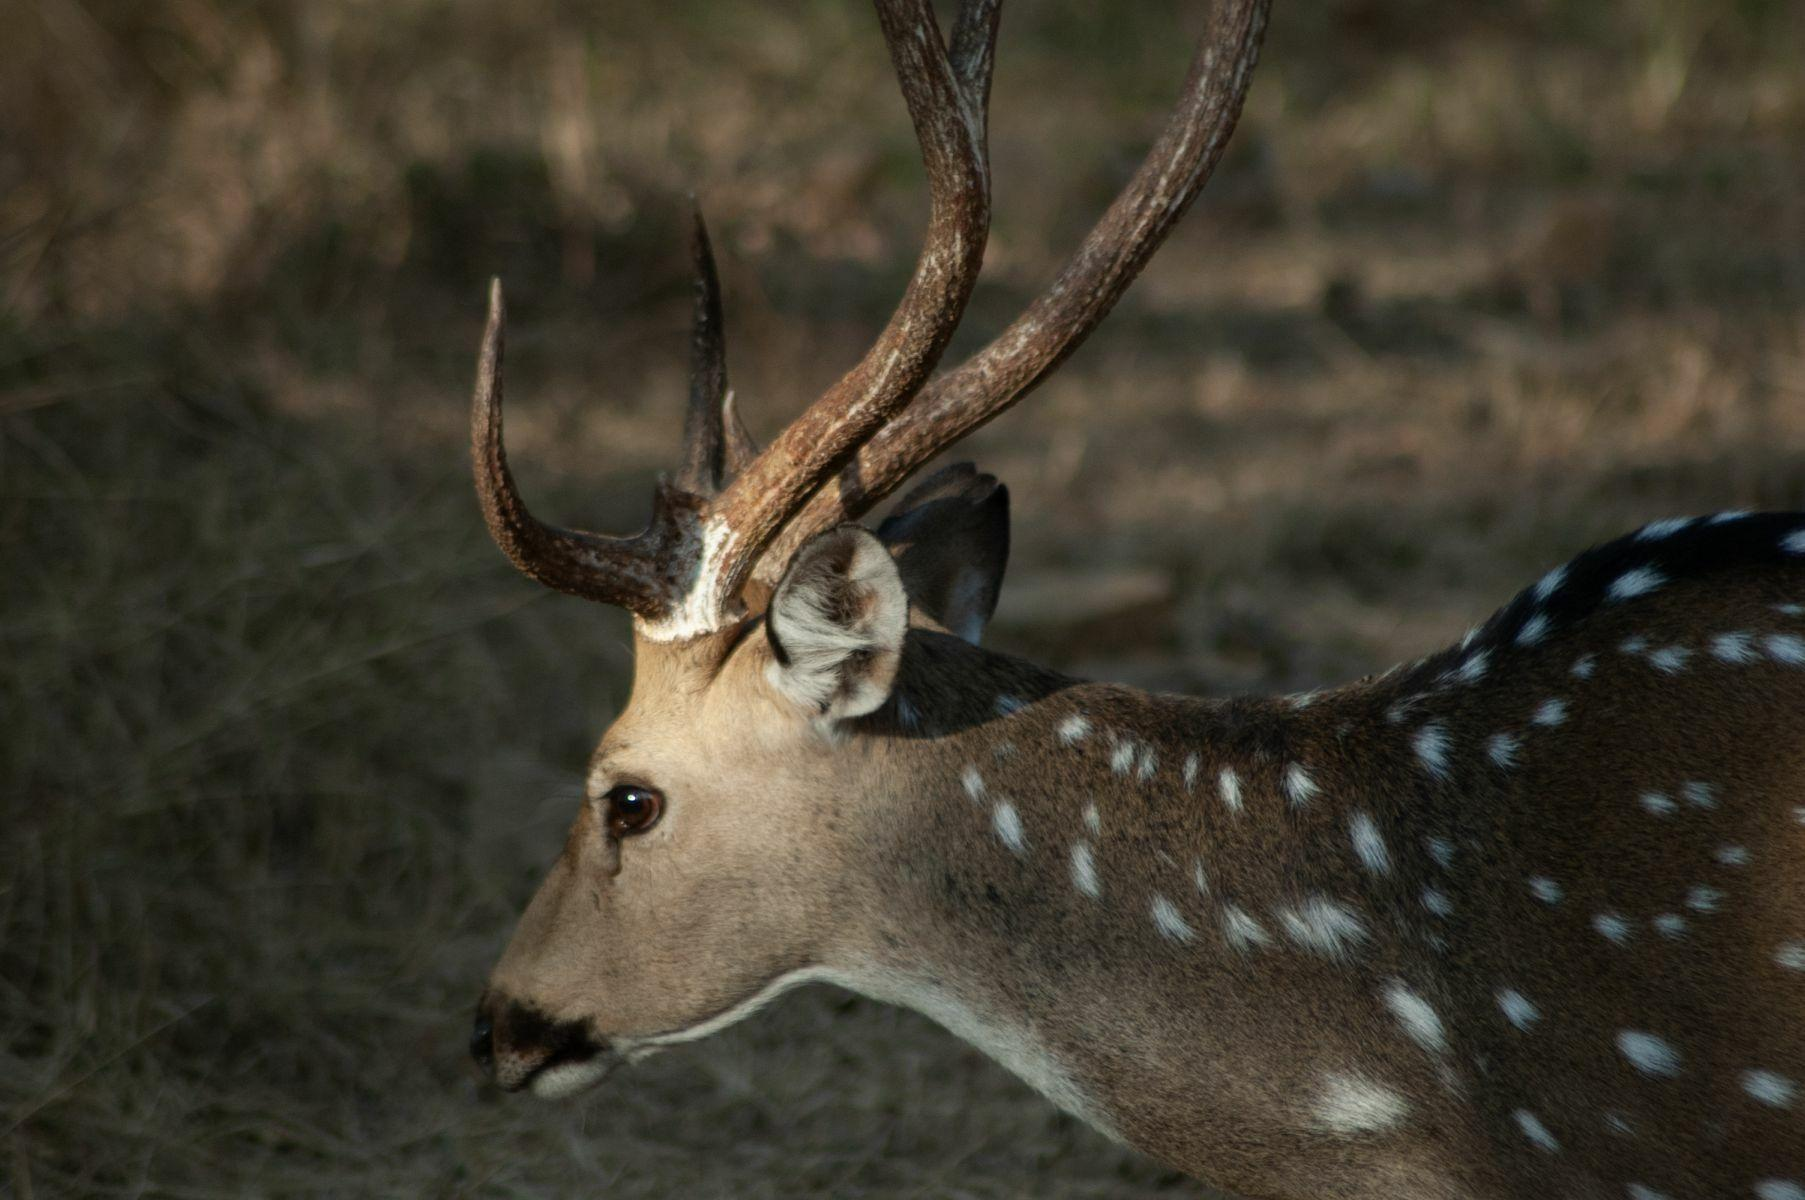Deer: (471, 0, 1804, 1196)
